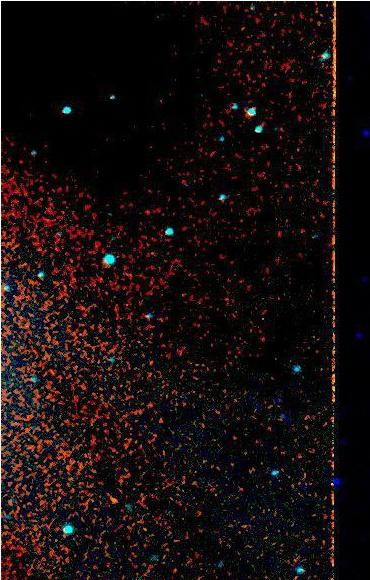star: (99, 485, 129, 515)
